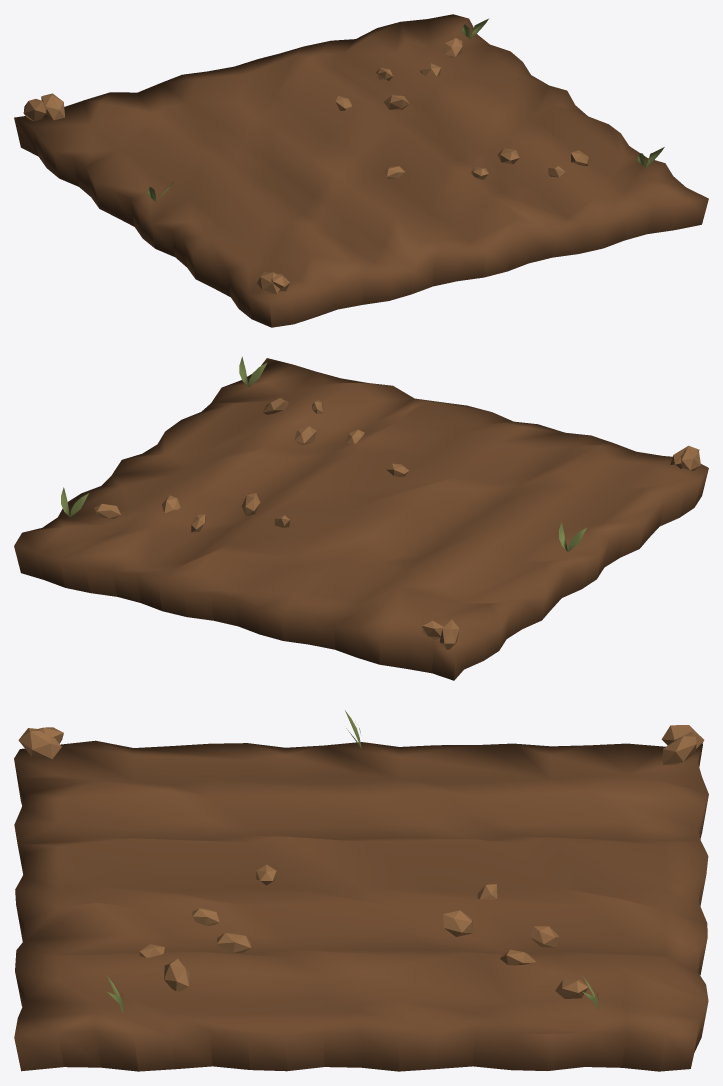
File: parcela_seca_lod.glb
3 views of the same model, one above another, from view 1: azimuth 30°, elevation 25°; view 2: azimuth 150°, elevation 25°; view 3: azimuth 270°, elevation 25° (orthographic). The views are drawn at different scales.
Visible parts, largest first — view 1: parcela_seca; view 2: parcela_seca; view 3: parcela_seca.
Boxes of the visible parts, x1,y1,x2,y2 form: parcela_seca: (14,14,708,327); parcela_seca: (14,356,708,680); parcela_seca: (14,710,708,1071).
Bounding box in the file's own units: 1.41 × 0.1694 × 1.4.
